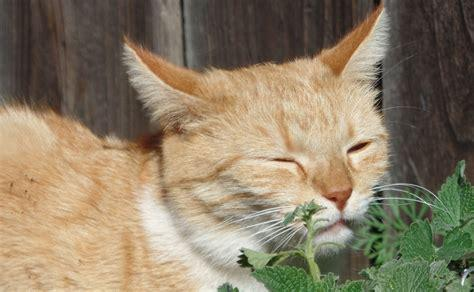cat: (1, 1, 386, 292)
